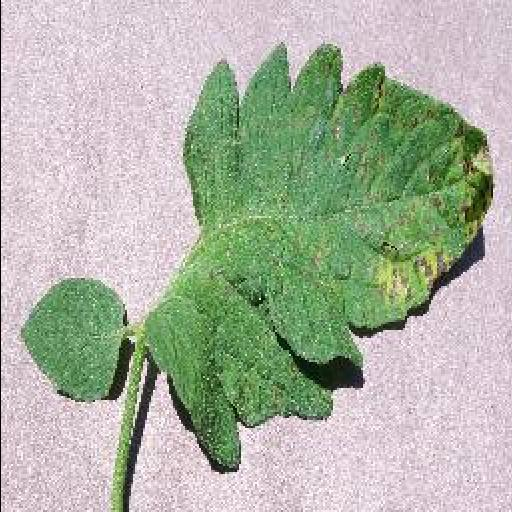Healthy: (20, 280, 126, 404)
Septoria: (150, 42, 498, 472)
